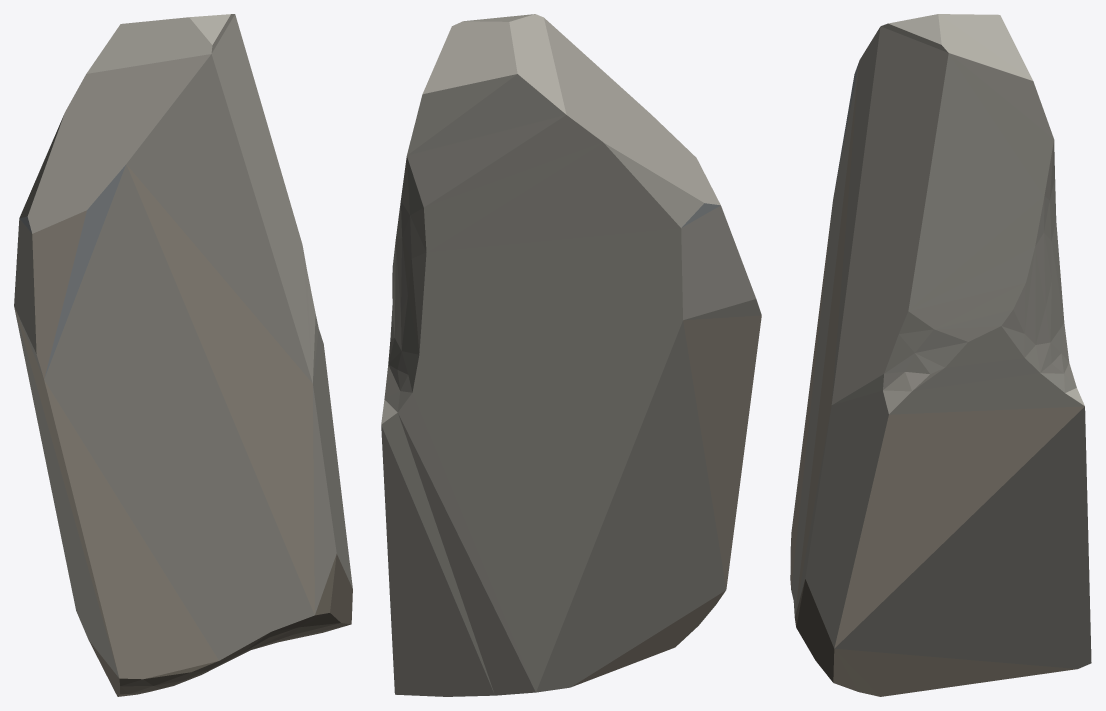
The model's file is rock-e.glb.
3 views of the same model, side by side, from view 1: azimuth 30°, elevation 25°; view 2: azimuth 150°, elevation 25°; view 3: azimuth 270°, elevation 25° (orthographic). The views are drawn at different scales.
Visible parts, largest first — view 1: Rock_E_Tall; view 2: Rock_E_Tall; view 3: Rock_E_Tall.
Part boxes in pixels (x1,y1,x2,y2): Rock_E_Tall: (14,14,352,696); Rock_E_Tall: (381,14,761,696); Rock_E_Tall: (790,14,1091,696).
Bounding box in the file's own units: 0.6499 × 1.24 × 0.5312.
Materials: 1 (1 with a texture image).
